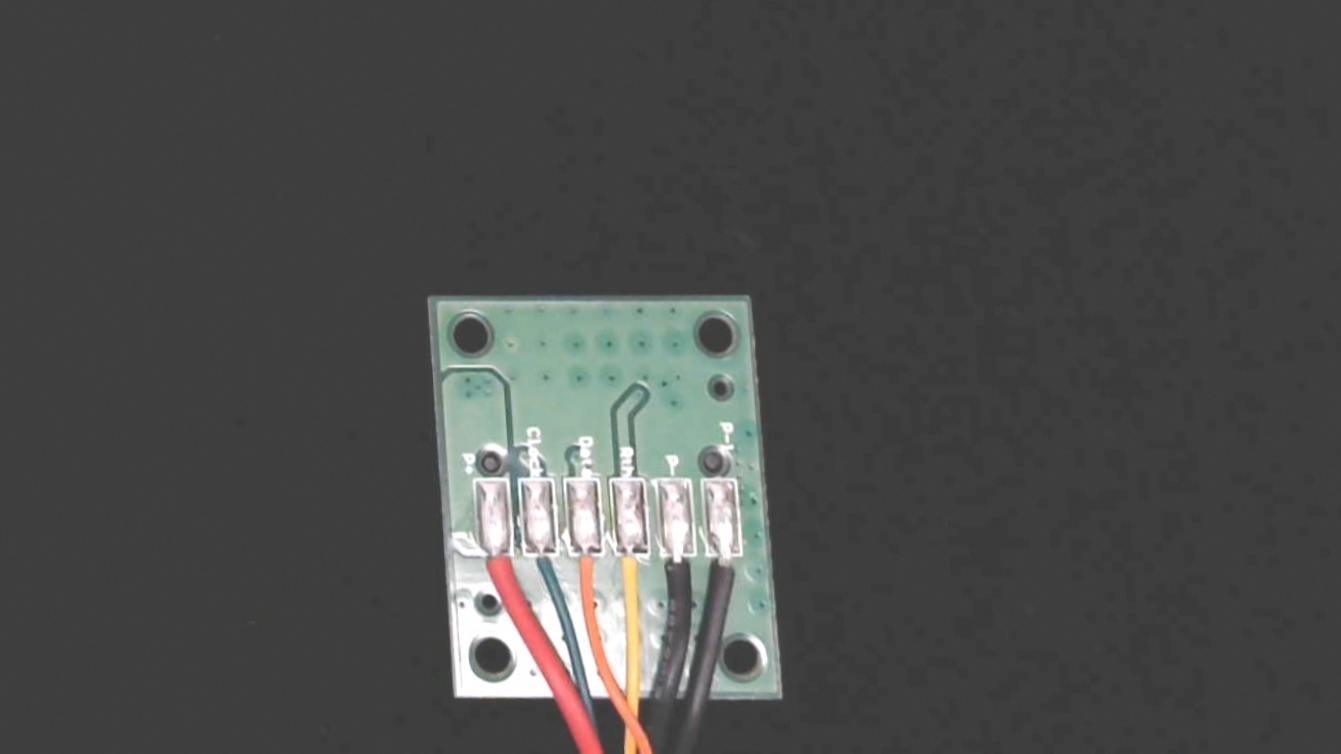Black: (657, 535, 703, 627)
Black1: (707, 534, 752, 619)
Green: (522, 530, 562, 604)
Orange: (567, 530, 610, 614)
Red: (477, 532, 522, 620)
Yellow: (611, 535, 657, 628)
